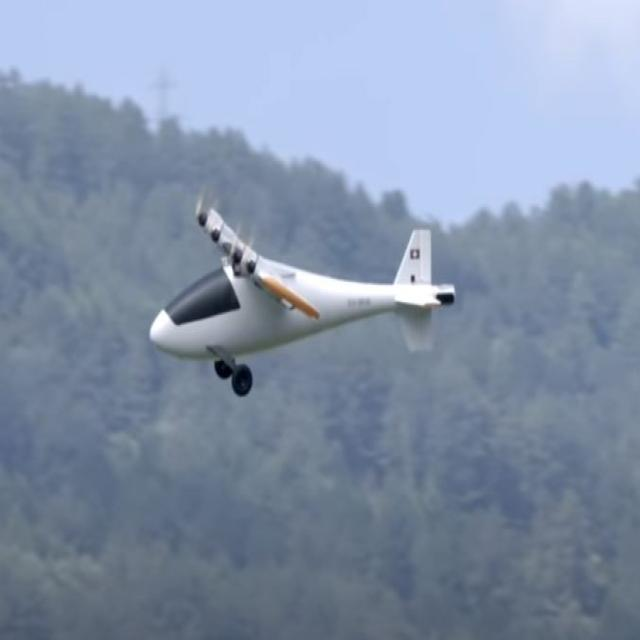iha: (145, 195, 457, 403)
